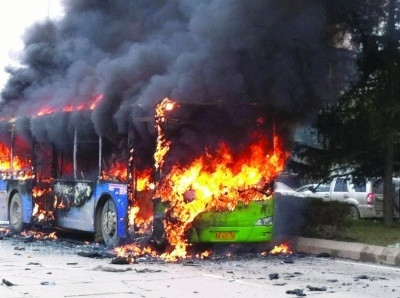fire: (15, 95, 308, 266), (265, 241, 294, 256)
